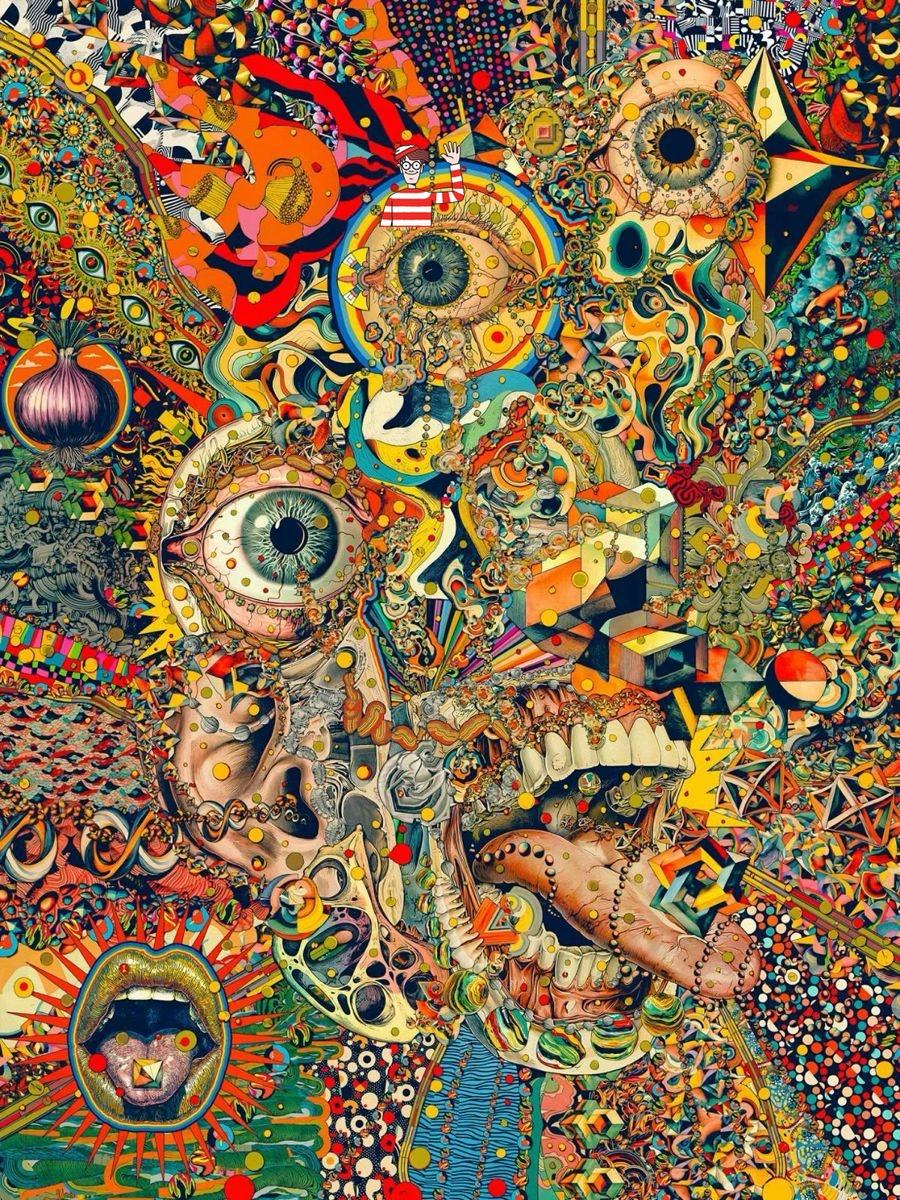waldo: (379, 141, 465, 227)
